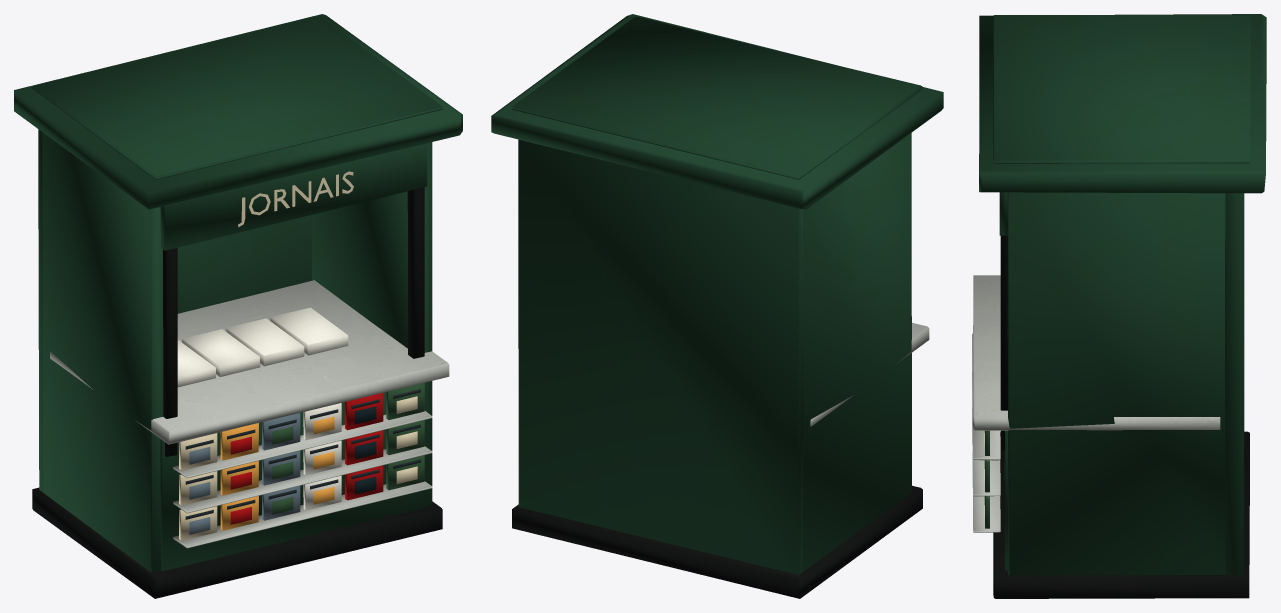
Rendered from kiosk.glb.
The picture shows the model from 3 angles, left to right: view 1: azimuth 30°, elevation 25°; view 2: azimuth 150°, elevation 25°; view 3: azimuth 270°, elevation 25°; orthographic projection. The views are drawn at different scales.
Visible parts, largest first — view 1: Side panels, Roof crown, Counter, Roof lip, Side panels.001, Header, Rear wall, Kiosk plinth, Front apron, Front corner pilaster.001, Front corner pilaster, Display shelf.001 (+25 smaller); view 2: Rear wall, Side panels, Roof crown, Roof lip, Kiosk plinth, Counter; view 3: Side panels.001, Roof crown, Roof lip, Kiosk plinth, Rear wall, Counter, Front corner pilaster.001, Display shelf, Display shelf.001, Display shelf.002, Front apron, Header.
Part boxes in pixels (x1,y1,x2,y2): Side panels: (42, 132, 163, 572); Roof crown: (32, 16, 443, 179); Counter: (50, 280, 449, 444); Roof lip: (14, 14, 462, 209); Side panels.001: (312, 142, 432, 506); Header: (160, 143, 427, 250); Rear wall: (38, 129, 311, 492); Kiosk plinth: (32, 487, 442, 598); Front apron: (160, 383, 424, 571); Front corner pilaster.001: (407, 187, 424, 358); Front corner pilaster: (163, 248, 177, 456); Display shelf.001: (173, 446, 432, 513); Rear wall: (518, 139, 803, 574); Side panels: (802, 133, 911, 571); Roof crown: (512, 16, 922, 179); Roof lip: (491, 14, 943, 209); Kiosk plinth: (512, 485, 922, 598); Counter: (810, 322, 929, 426); Side panels.001: (1007, 192, 1225, 575); Roof crown: (993, 14, 1250, 163); Roof lip: (979, 14, 1266, 193); Kiosk plinth: (993, 431, 1249, 598); Rear wall: (1225, 193, 1244, 575); Counter: (972, 275, 1220, 430); Front corner pilaster.001: (1000, 235, 1007, 450); Display shelf: (972, 408, 1000, 532); Display shelf.001: (972, 372, 1000, 496); Display shelf.002: (972, 333, 1000, 460); Front apron: (1004, 430, 1007, 570); Header: (999, 192, 1007, 235).
Size of the model in its own units: 1.79 by 2.3 by 1.39.
Materials: 1 (1 with a texture image).
